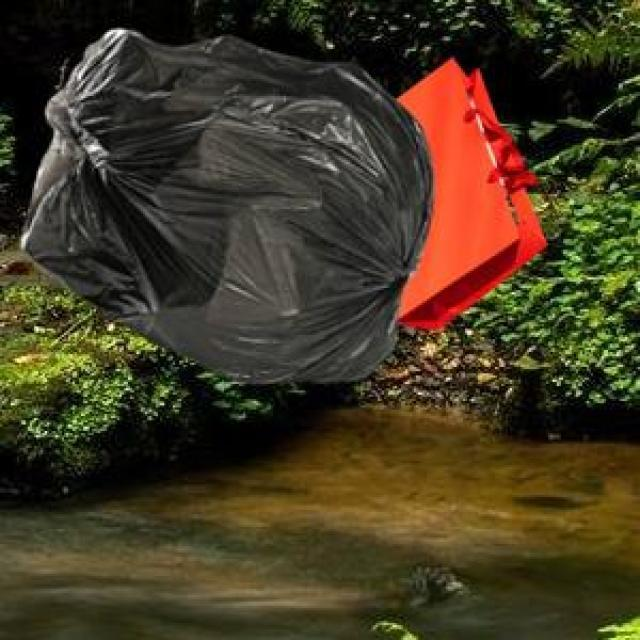miscellaneous trash: (17, 26, 429, 380)
paper: (393, 56, 542, 326)
